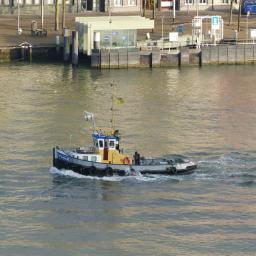tugboat: (52, 110, 200, 180)
